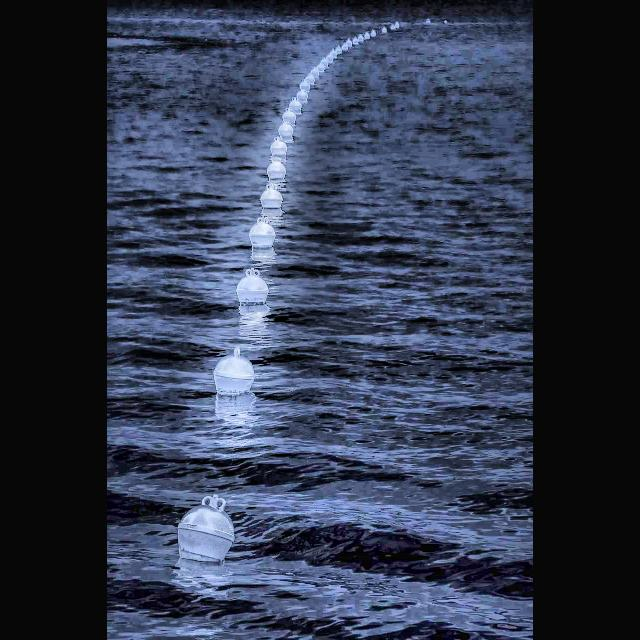buoy: (176, 492, 238, 574), (213, 347, 257, 399), (236, 268, 272, 310), (248, 216, 276, 250), (260, 182, 284, 215), (264, 159, 290, 185), (268, 135, 288, 161), (280, 106, 298, 130), (278, 123, 294, 141), (288, 98, 302, 116), (296, 88, 308, 104)
